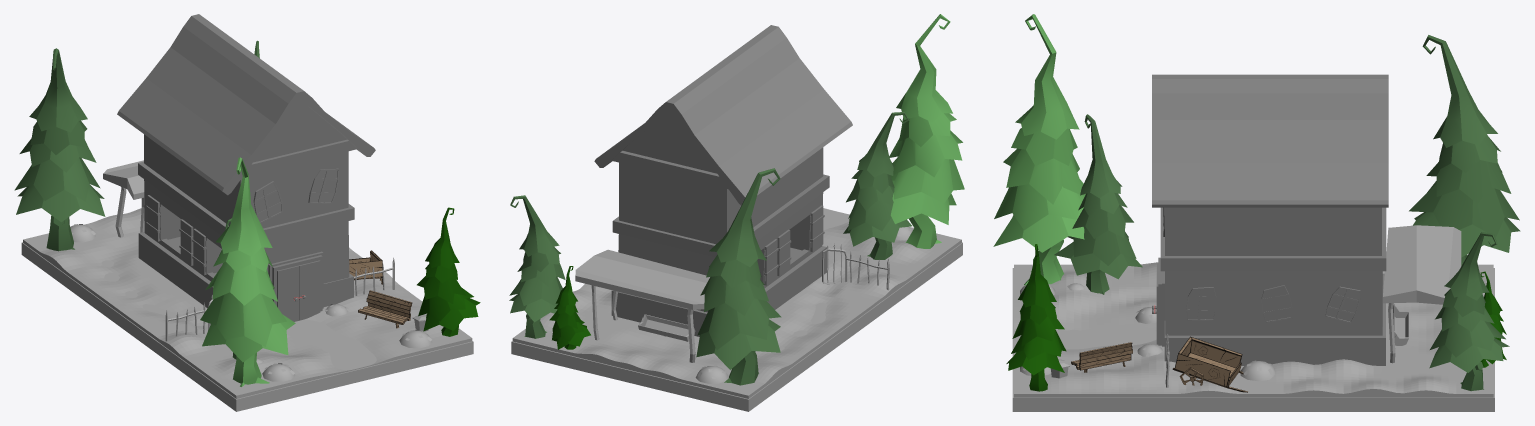
The model's file is Village_ecurie.fbx.
3 renders of one model, left to right at view 1: azimuth 30°, elevation 25°; view 2: azimuth 150°, elevation 25°; view 3: azimuth 270°, elevation 25°, orthographic. The views are drawn at different scales.
Visible parts, largest first — view 1: ecurie, sol29, sapin28, sapin27, sol10, sapin29, sol30, Abris_bois2, banc1, charette1, Buisson41, Buisson39; view 2: ecurie, sol29, sapin27, sapin28, sol10, Abris_bois2, sapin30, sapin32, sapin31, abreuvoir1, Buisson44, Portail1 (+1 smaller); view 3: ecurie, sol29, sapin28, sapin27, sol10, sapin30, sapin32, Abris_bois2, sapin29, charette1, sol30, banc1 (+3 smaller).
Part boxes in pixels (left/top/right/bottom): ecurie: left=117, top=14, right=375, bottom=321; sol29: left=23, top=208, right=472, bottom=398; sapin28: left=200, top=157, right=295, bottom=386; sapin27: left=14, top=48, right=105, bottom=251; sol10: left=21, top=242, right=473, bottom=411; sapin29: left=417, top=207, right=480, bottom=336; sol30: left=286, top=319, right=382, bottom=373; Abris_bois2: left=103, top=160, right=144, bottom=237; banc1: left=358, top=290, right=412, bottom=328; charette1: left=349, top=250, right=382, bottom=284; Buisson41: left=399, top=329, right=432, bottom=348; Buisson39: left=262, top=363, right=295, bottom=381; ecurie: left=594, top=25, right=852, bottom=336; sol29: left=512, top=208, right=961, bottom=398; sapin27: left=696, top=168, right=781, bottom=385; sapin28: left=889, top=14, right=964, bottom=248; sol10: left=511, top=242, right=962, bottom=411; Abris_bois2: left=575, top=249, right=709, bottom=362; sapin30: left=843, top=112, right=911, bottom=259; sapin32: left=509, top=195, right=565, bottom=338; sapin31: left=549, top=266, right=590, bottom=349; abreuvoir1: left=638, top=314, right=695, bottom=341; Buisson44: left=695, top=365, right=728, bottom=383; Portail1: left=822, top=244, right=847, bottom=284; ecurie: left=1152, top=74, right=1388, bottom=365; sol29: left=1014, top=262, right=1493, bottom=397; sapin28: left=993, top=14, right=1085, bottom=285; sapin27: left=1409, top=35, right=1520, bottom=265; sol10: left=1012, top=268, right=1494, bottom=411; sapin30: left=1054, top=114, right=1142, bottom=294; sapin32: left=1429, top=232, right=1509, bottom=391; Abris_bois2: left=1383, top=225, right=1461, bottom=363; sapin29: left=1006, top=244, right=1066, bottom=391; charette1: left=1172, top=336, right=1247, bottom=392; sol30: left=1014, top=323, right=1156, bottom=349; banc1: left=1071, top=342, right=1132, bottom=372.
Bounding box in the file's own units: 1176 × 1007 × 1750.
